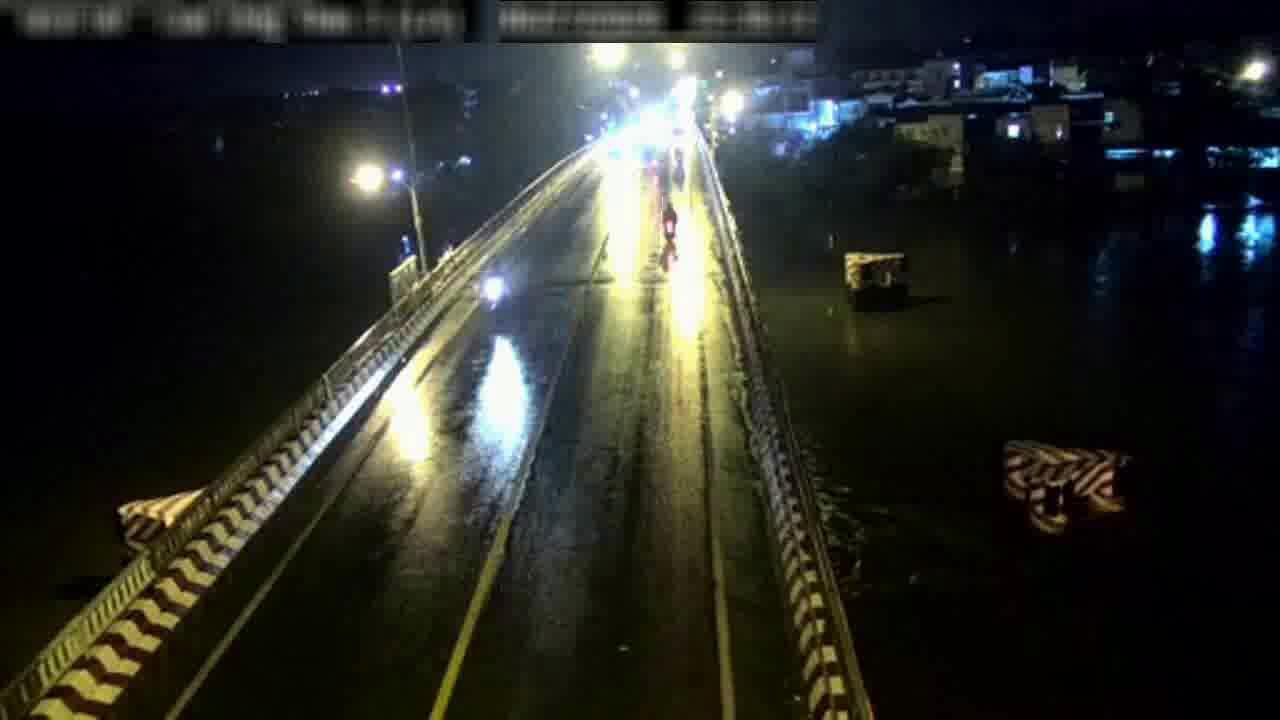motorbike: (476, 271, 514, 307), (661, 197, 677, 243)
